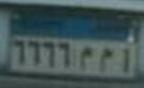6: (58, 40, 73, 67), (43, 41, 55, 67), (28, 40, 40, 65), (14, 40, 26, 64)
alif: (119, 47, 132, 71)
meem: (77, 47, 93, 70), (99, 49, 114, 72)
